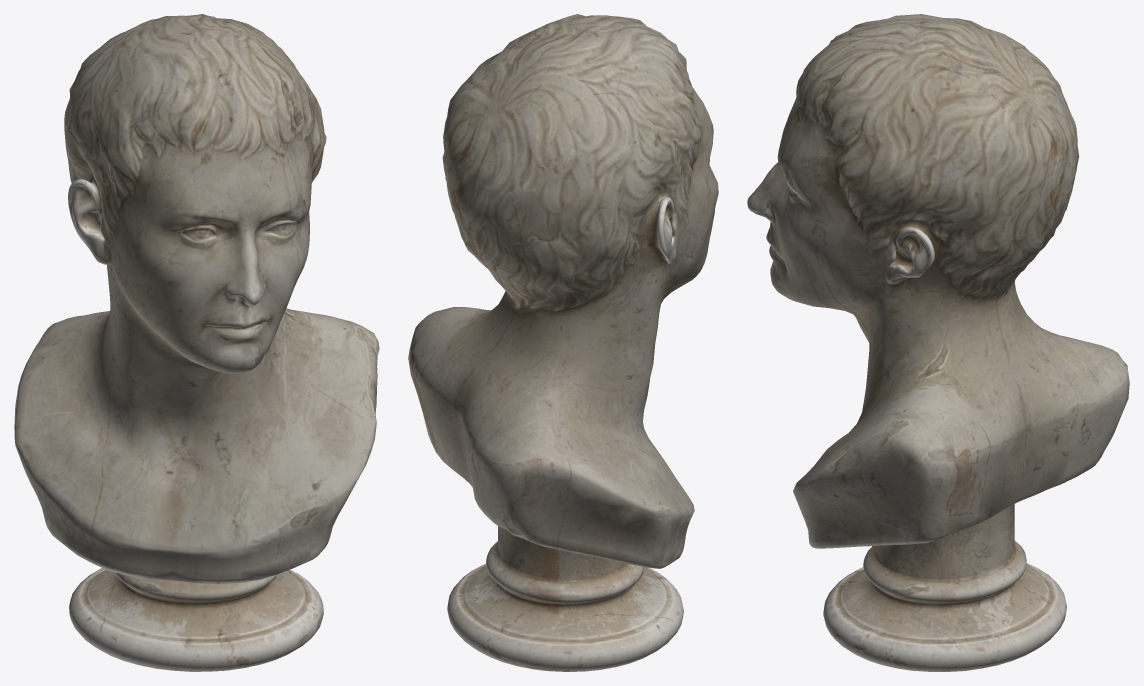
The model's file is marble_bust_01.glb.
3 renders of one model, left to right at view 1: azimuth 30°, elevation 25°; view 2: azimuth 150°, elevation 25°; view 3: azimuth 270°, elevation 25°, orthographic. The views are drawn at different scales.
Parts seen in each view (by area): view 1: marble_bust_01; view 2: marble_bust_01; view 3: marble_bust_01.
Part boxes in pixels (x1=…): marble_bust_01: x1=14, y1=14, x2=379, y2=671; marble_bust_01: x1=408, y1=14, x2=718, y2=671; marble_bust_01: x1=747, y1=14, x2=1129, y2=671.
Bounding box in the file's own units: 2.64 × 5 × 2.91.
Materials: 1 (1 with a texture image).
